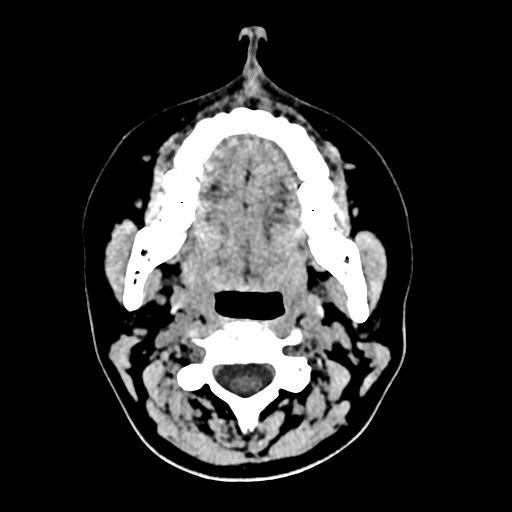Normal_Brain: (49, 17, 463, 482)
